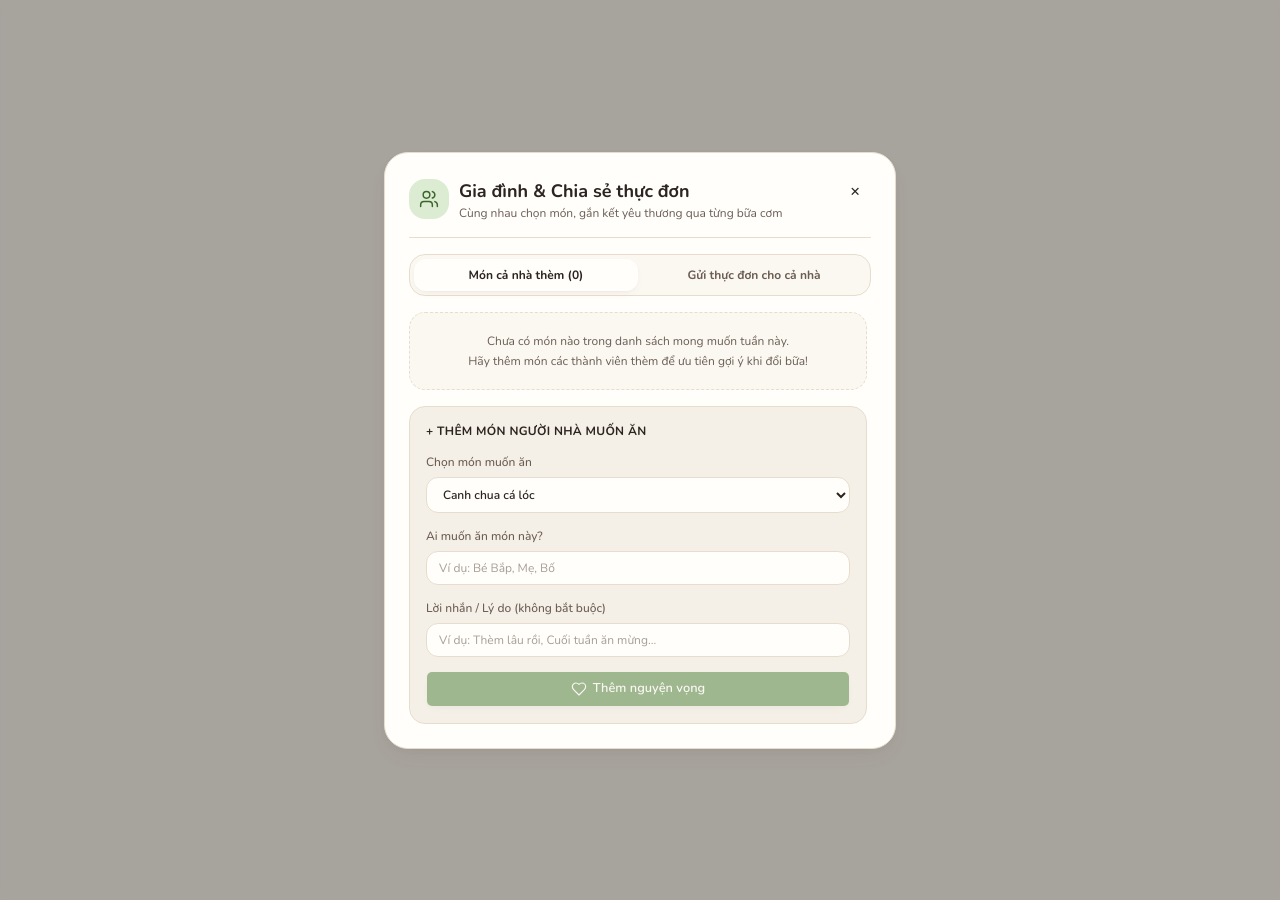
Test: FamilyCollaborationModal › allows entering a custom dish craving not in the options list
The image size is (1280, 900).
Select custom option
Select "✏️ Nhập món khác ngoài danh sách..." in the dropdown labelled "Chọn món muốn ăn": point(638, 494) [426,476,850,512]
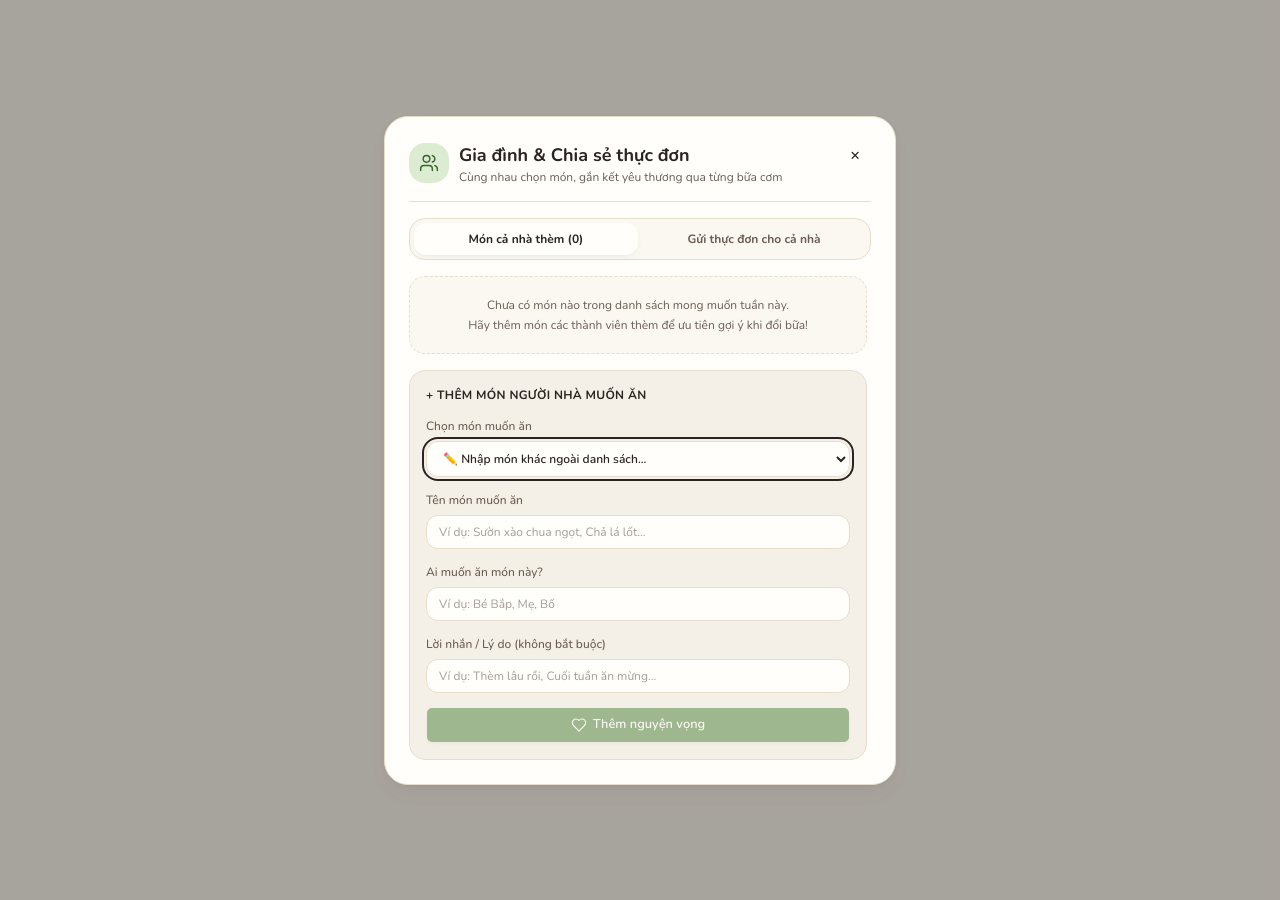
Input custom dish name
In the field labelled "Tên món muốn ăn": point(638, 532) [426,514,850,548], type "Sườn xào chua ngọt"
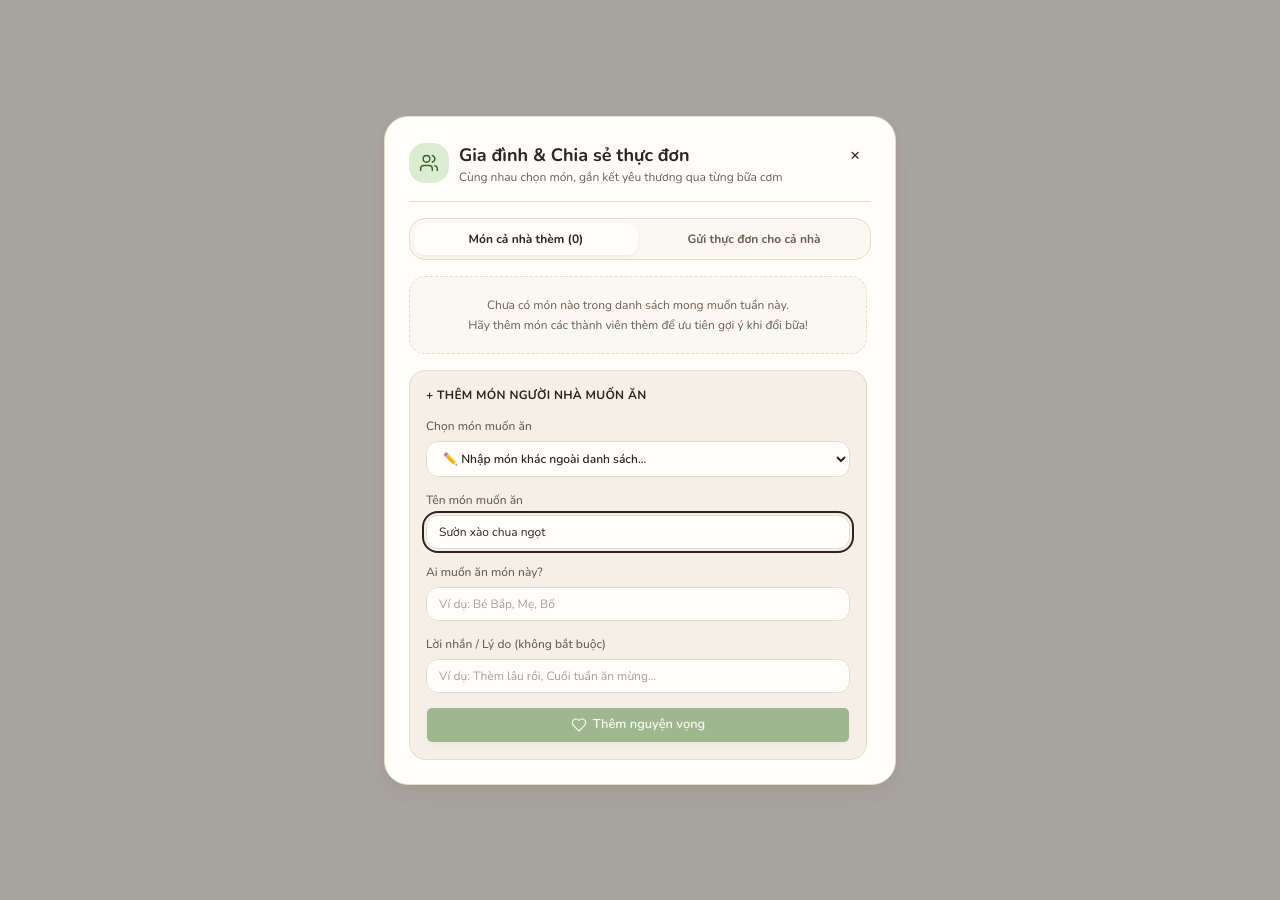
In the field with placeholder "Ví dụ: Bé Bắp, Mẹ, Bố": point(638, 604) [426,586,850,620], type "Mẹ"
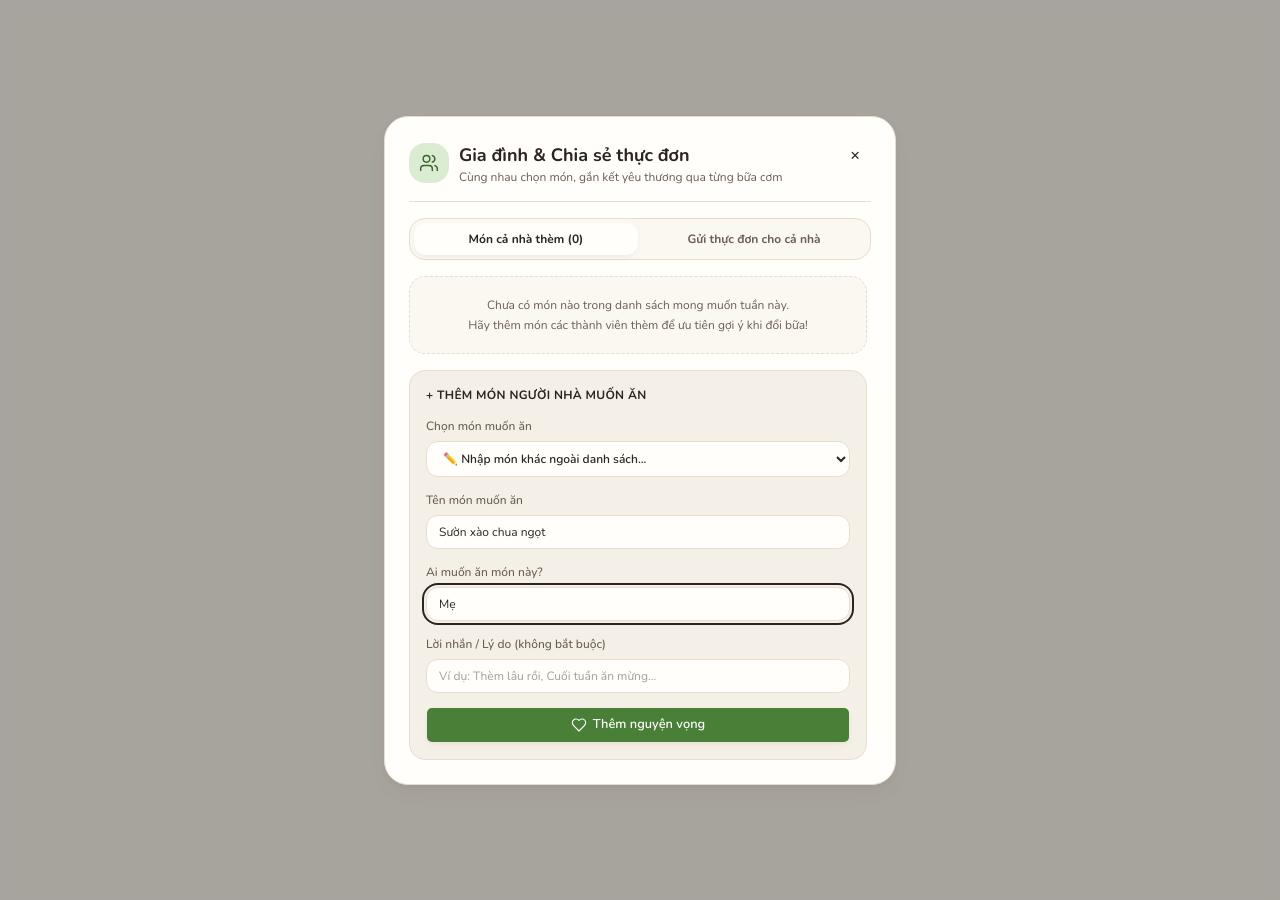
In the field with placeholder "Ví dụ: Thèm lâu rồi, Cuối tuần ăn mừng...": point(638, 676) [426,658,850,692], type "Món này cả nhà đều thích"
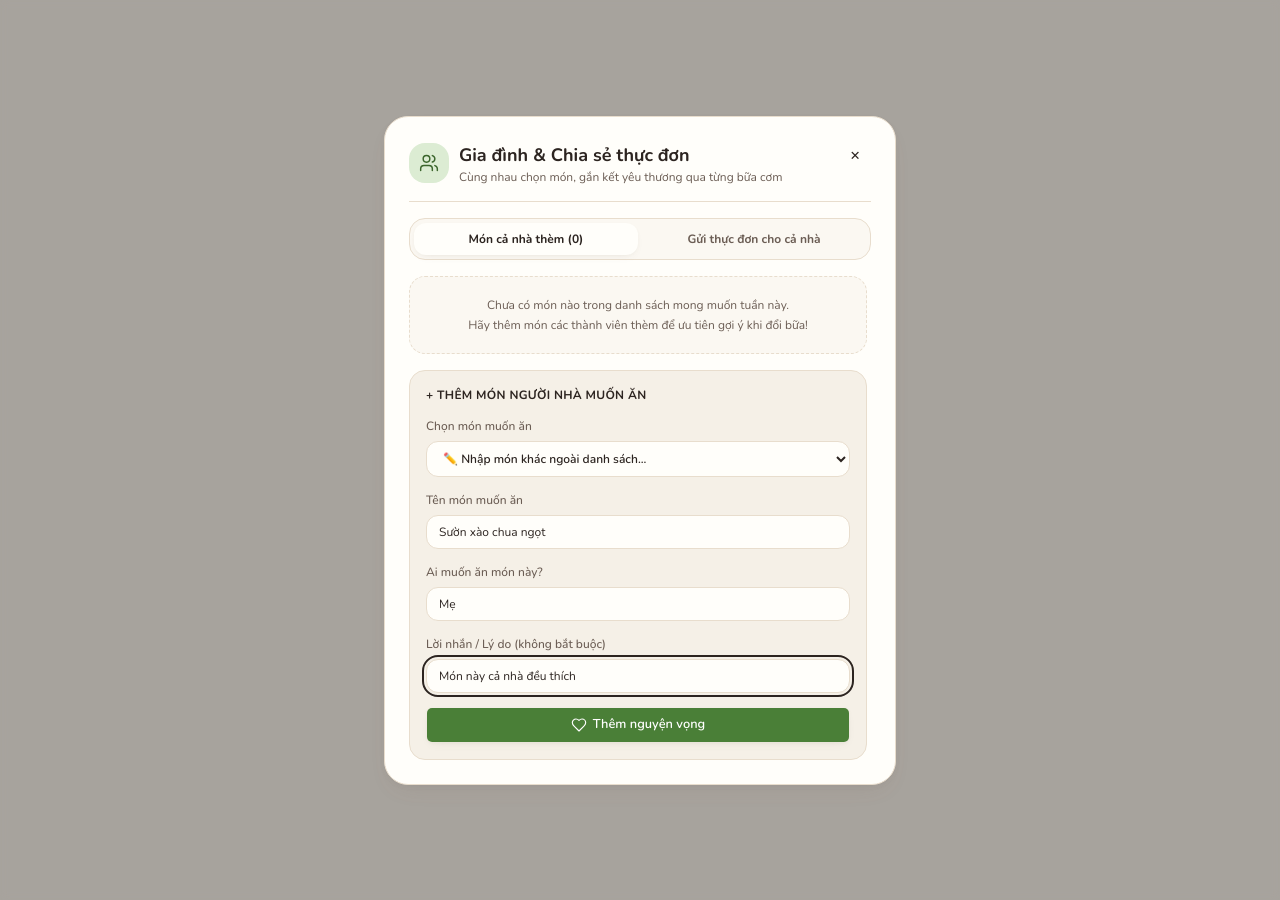
Click the button "Thêm nguyện vọng": point(638, 724) [426,706,850,742]
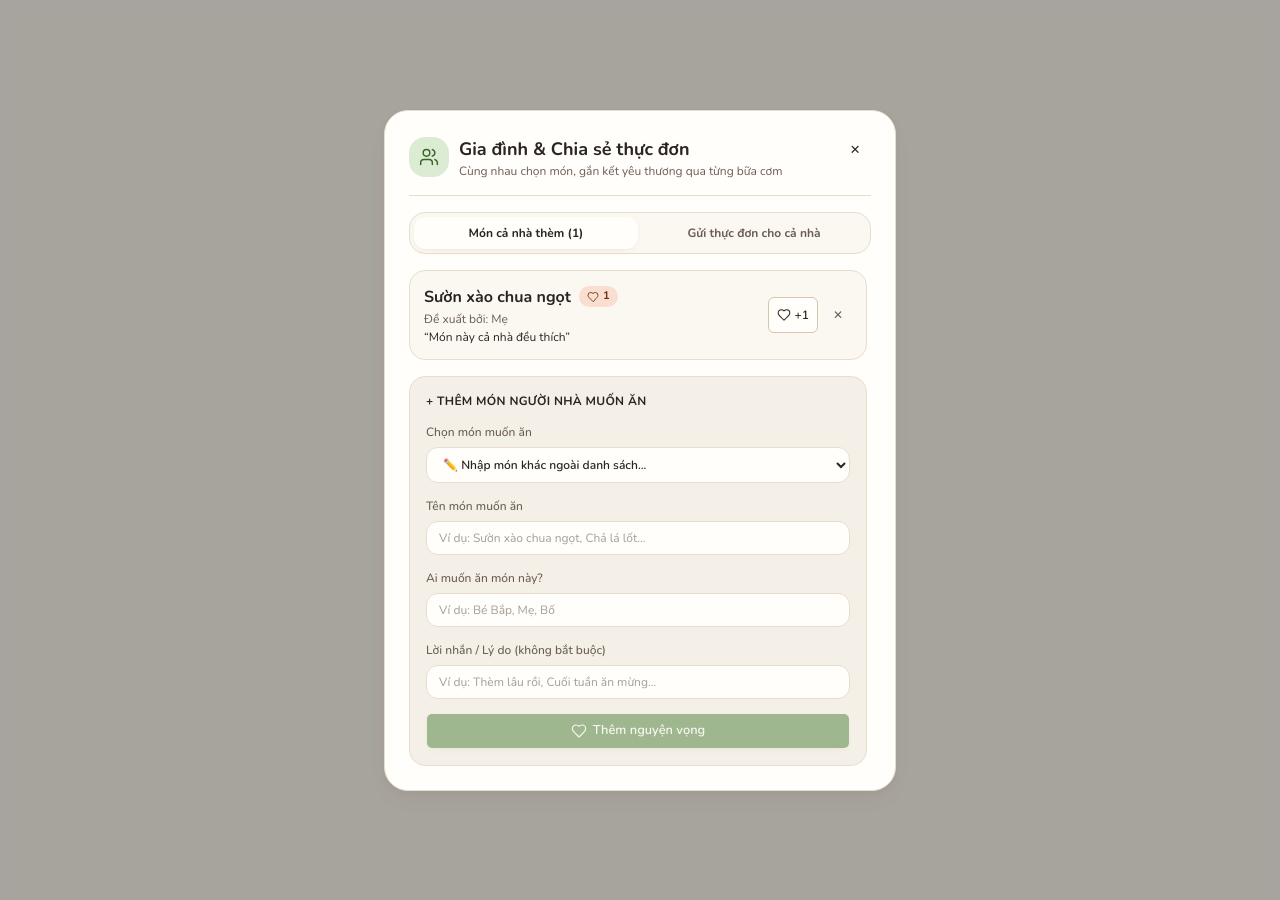
Result: the text "Sườn xào chua ngọt" is shown at [424,284,571,308]
Result: the text "Đề xuất bởi: Mẹ" is shown at [424,310,508,326]
Result: the text "“Món này cả nhà đều thích”" is shown at [424,328,570,344]
